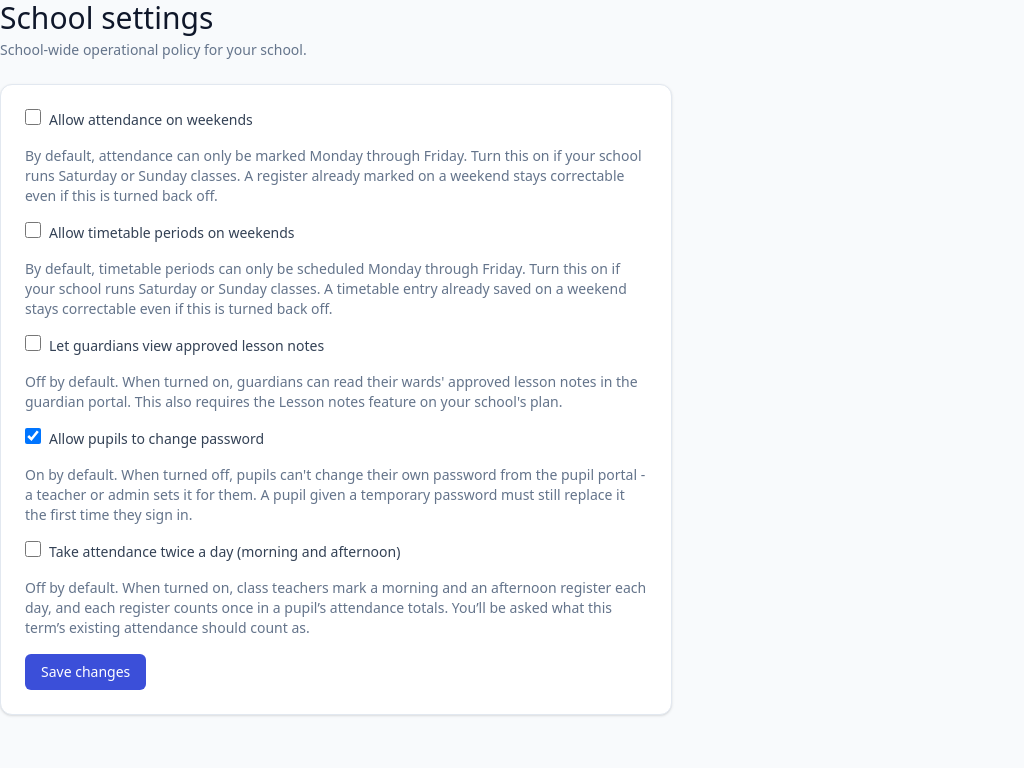
Scenario: SchoolSettingsPage › asks what this term's attendance becomes when two-session attendance is turned on, and sends the choice
Click the checkbox labelled "Take attendance twice a day (morning and afternoon)" at (33, 549), box x1=25 y1=541 x2=41 y2=557
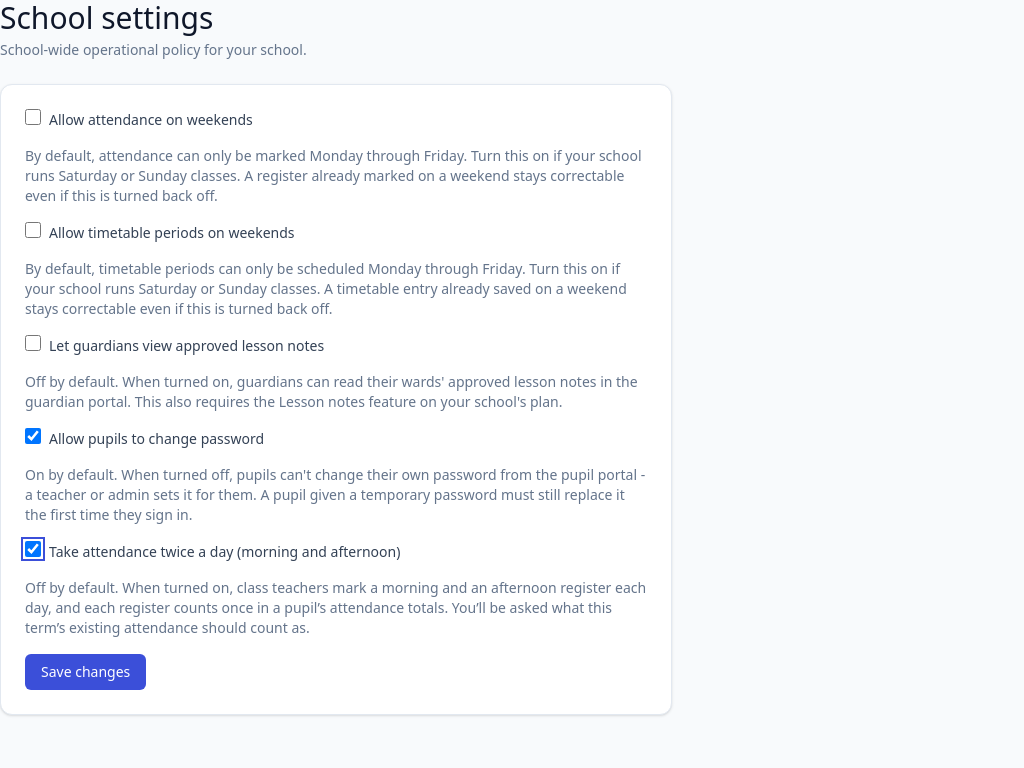
Click the button "Save changes" at (86, 672), box x1=25 y1=654 x2=146 y2=690
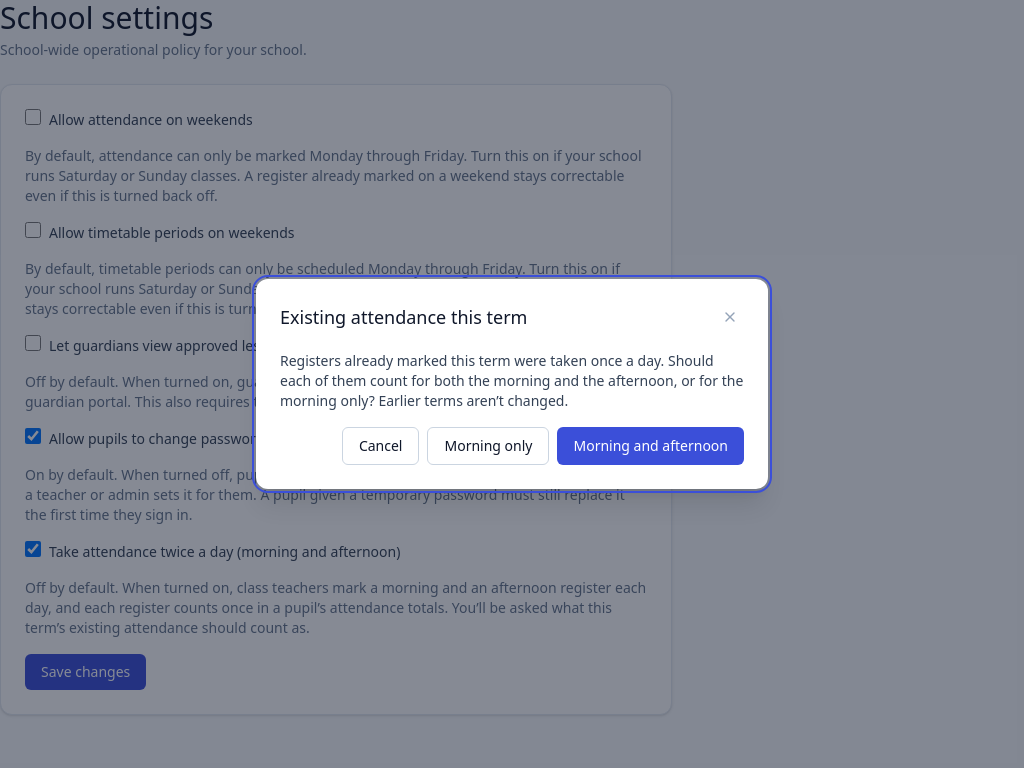
Check: the dialog "Existing attendance this term" is shown, box x1=256 y1=279 x2=768 y2=489
Click the button "Morning and afternoon" at (651, 446), box x1=558 y1=427 x2=744 y2=465
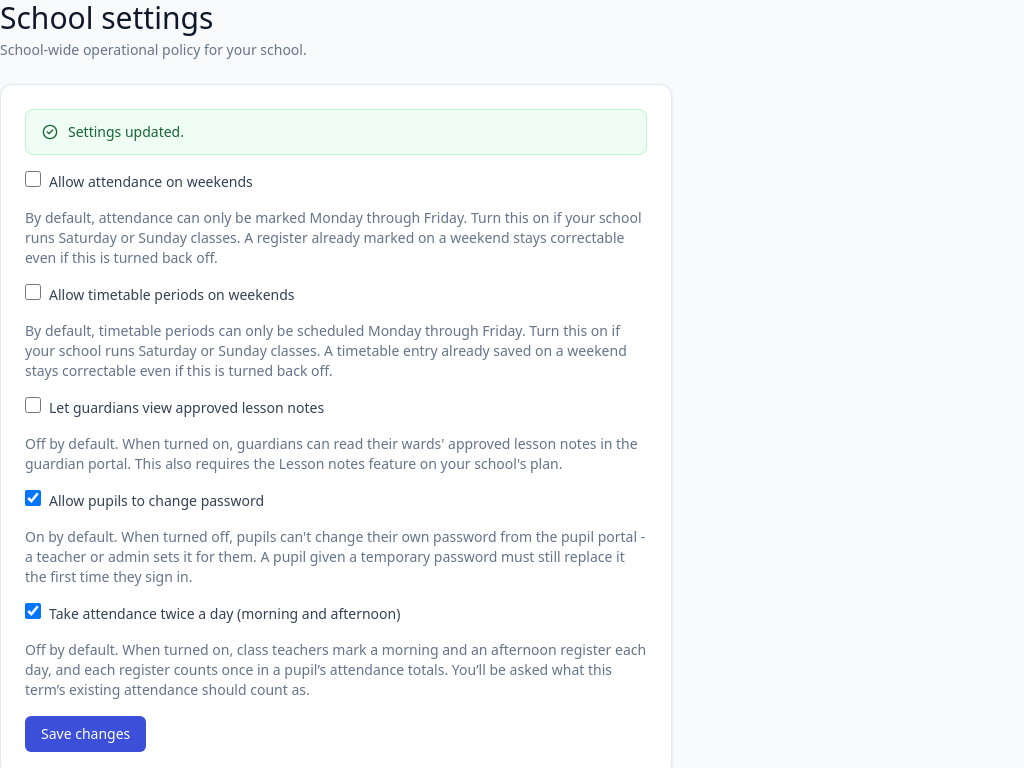
Check: the text "Settings updated." is shown, box x1=68 y1=122 x2=184 y2=142
